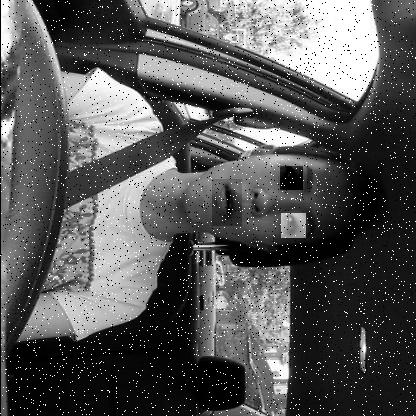seatbelt: (65, 132, 387, 274)
